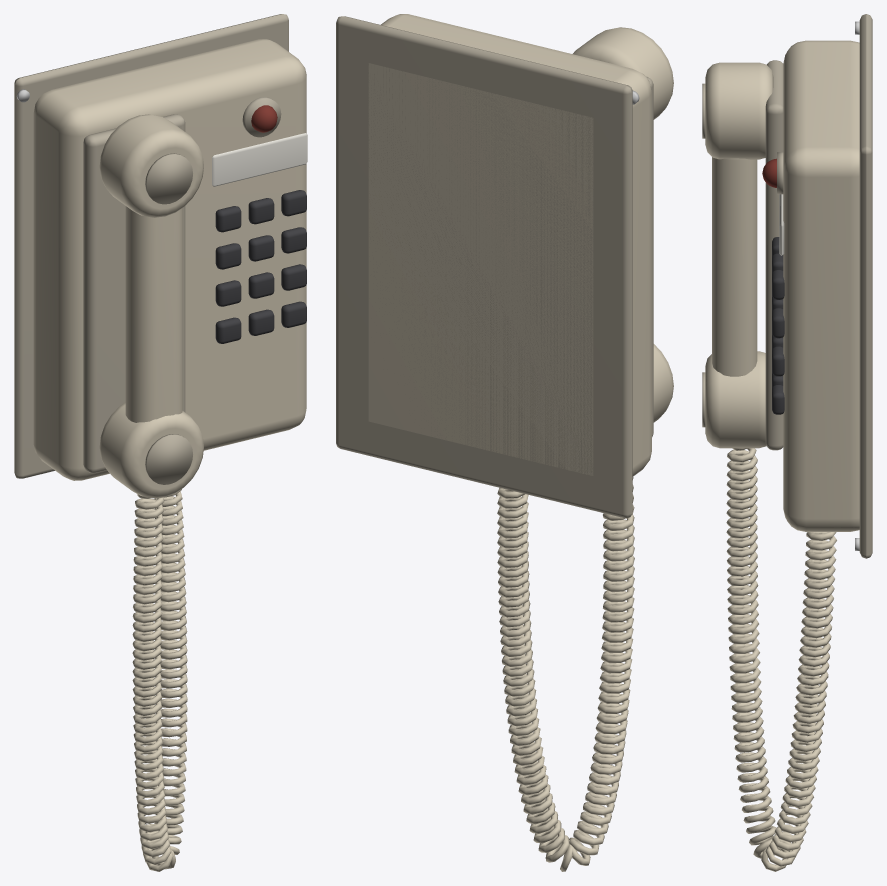
The model's file is phone.glb.
The picture shows the model from 3 angles, left to right: view 1: azimuth 30°, elevation 25°; view 2: azimuth 150°, elevation 25°; view 3: azimuth 270°, elevation 25°; orthographic projection. The views are drawn at different scales.
Visible parts, largest first — view 1: PhoneBody, HandsetMesh, PhoneLamp; view 2: PhoneBody, HandsetMesh; view 3: PhoneBody, HandsetMesh.
Part boxes in pixels (x1=…): PhoneBody: x1=14, y1=14, x2=307, y2=871; HandsetMesh: x1=99, y1=114, x2=203, y2=498; PhoneLamp: x1=251, y1=105, x2=277, y2=132; PhoneBody: x1=336, y1=14, x2=653, y2=871; HandsetMesh: x1=573, y1=27, x2=673, y2=422; PhoneBody: x1=726, y1=14, x2=872, y2=871; HandsetMesh: x1=702, y1=62, x2=773, y2=448.
Size of the model in its own units: 0.202 by 0.5475 by 0.105.
